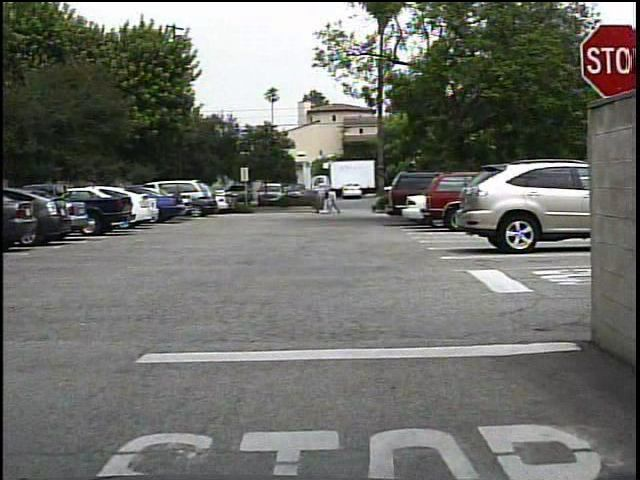person: (328, 186, 345, 216), (312, 186, 327, 215), (321, 186, 335, 217)
